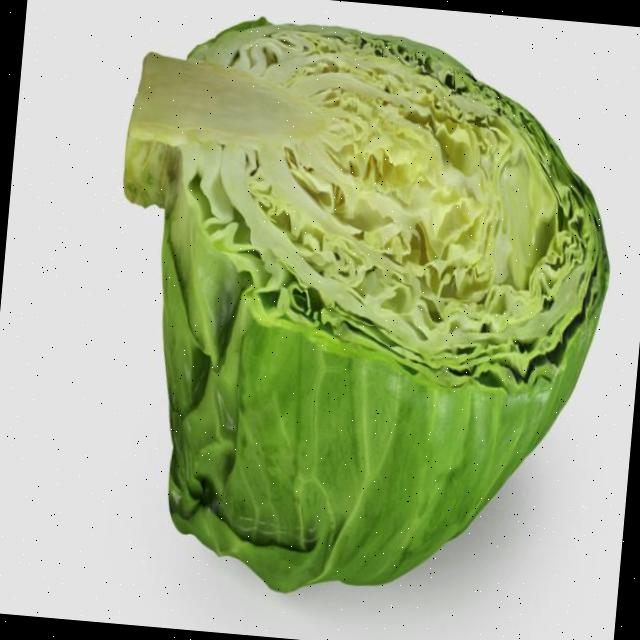cabbage: (86, 0, 632, 623)
